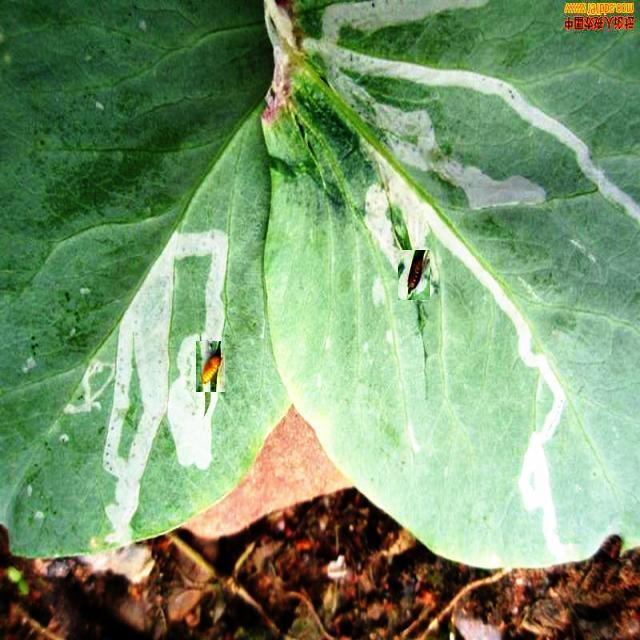whorl-maggot: (398, 250, 430, 300), (196, 341, 225, 392)
